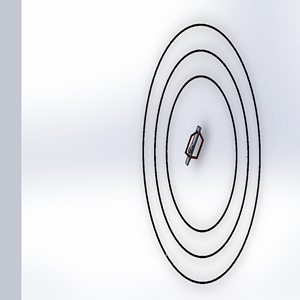circle: (122, 18, 274, 289)
submarine: (178, 117, 211, 175)
